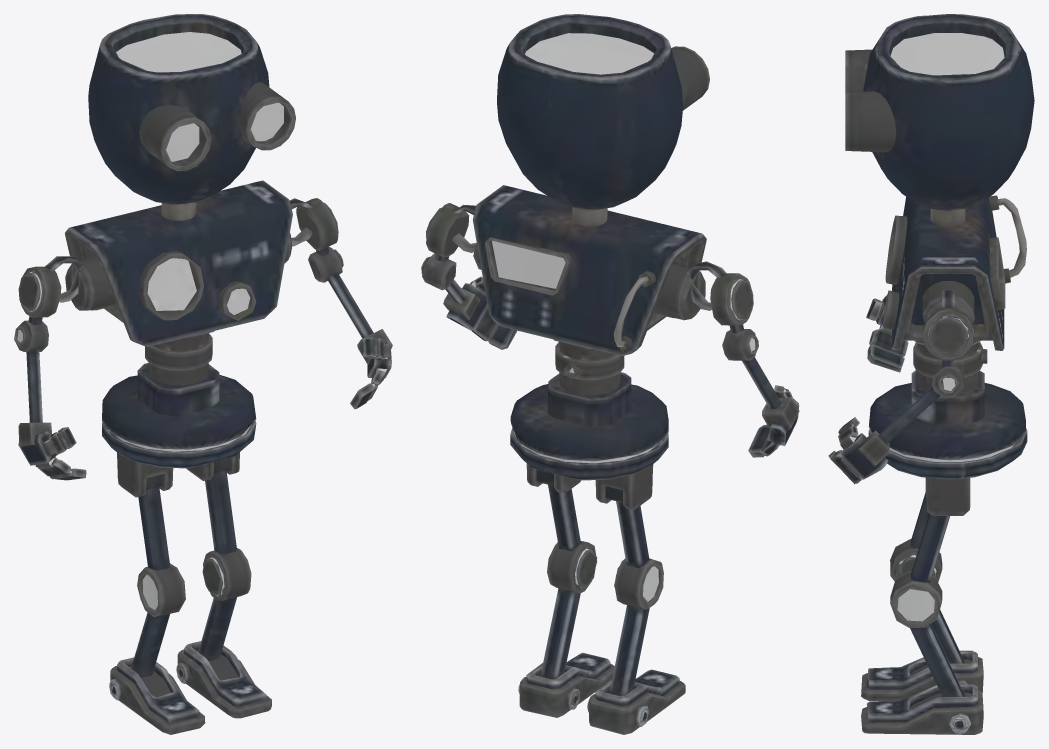
File: npc-mini-bot.glb
3 views of the same model, side by side, from view 1: azimuth 30°, elevation 25°; view 2: azimuth 150°, elevation 25°; view 3: azimuth 270°, elevation 25° (orthographic). The views are drawn at different scales.
Visible parts, largest first — view 1: Object_16_baked; view 2: Object_16_baked; view 3: Object_16_baked.
Boxes of the visible parts, <box> form: Object_16_baked: <box>14,14,392,734</box>; Object_16_baked: <box>421,14,799,734</box>; Object_16_baked: <box>828,14,1034,734</box>.
Size of the model in its own units: 1.68 by 2.95 by 0.8325.
Materials: 1 (1 with a texture image).
